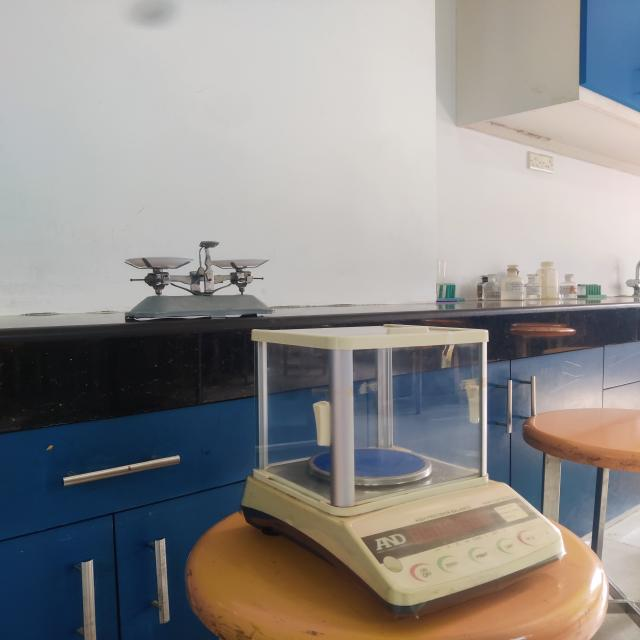Mechanical_Balance_Scale: (88, 226, 304, 339)
Precision_Weight_Scale: (230, 312, 602, 637)
